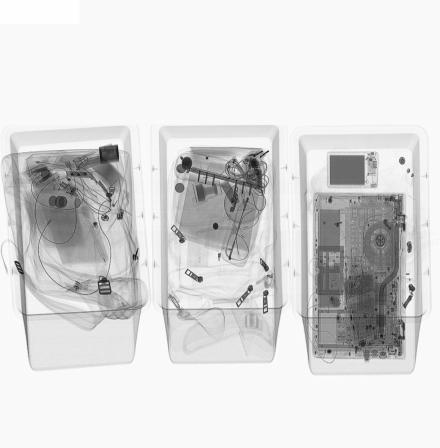Powerbank: (326, 150, 380, 189)
